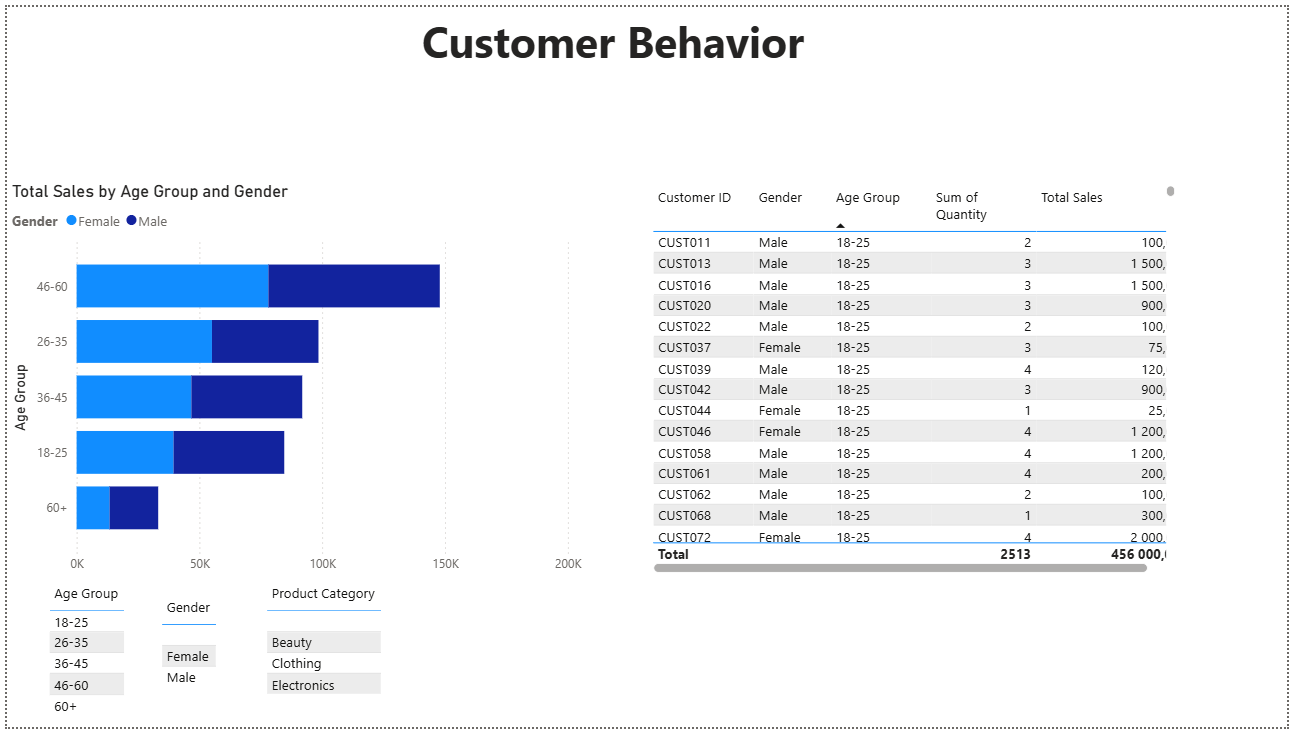

The page's visual inventory and layout, read from the dashboard file:
{"tool":"powerbi","page":{"name":"Page 2","canvas":[1280,720],"ordinal":1},"visuals":[{"type":"textbox","box":[410,0,475,83.3],"z":0},{"type":"barChart","fields":{"Y":["retail_sales_dataset.Total Sales"],"Category":["retail_sales_dataset.Age Group"],"Series":["retail_sales_dataset.Gender"]},"box":[0,173.3,580,415],"z":1000},{"type":"tableEx","fields":{"Values":["retail_sales_dataset.Customer ID","retail_sales_dataset.Gender","retail_sales_dataset.Age Group","Sum(retail_sales_dataset.Quantity)","retail_sales_dataset.Total Sales"]},"box":[640,173.3,533.3,396.7],"z":2000},{"type":"tableEx","fields":{"Values":["retail_sales_dataset.Age Group"]},"box":[36.7,570,111.7,150],"z":3000},{"type":"tableEx","fields":{"Values":["retail_sales_dataset.Gender"]},"box":[148.3,583.3,96.7,136.7],"z":4000},{"type":"tableEx","fields":{"Values":["retail_sales_dataset.Product Category"]},"box":[253.3,570,156.7,150],"z":5000}]}

Visuals, with their boxes in screenshot pixels (x1, y1, x2, y2), scaled from the page's 1280x720 canvas onto the 1290x730 screenshot:
textbox: [left=413, top=0, right=892, bottom=84]
barChart - retail_sales_dataset.Total Sales x retail_sales_dataset.Age Group: [left=0, top=176, right=585, bottom=596]
tableEx - retail_sales_dataset.Customer ID x retail_sales_dataset.Gender: [left=645, top=176, right=1182, bottom=578]
tableEx - retail_sales_dataset.Age Group: [left=37, top=578, right=150, bottom=729]
tableEx - retail_sales_dataset.Gender: [left=149, top=591, right=247, bottom=729]
tableEx - retail_sales_dataset.Product Category: [left=255, top=578, right=413, bottom=729]
